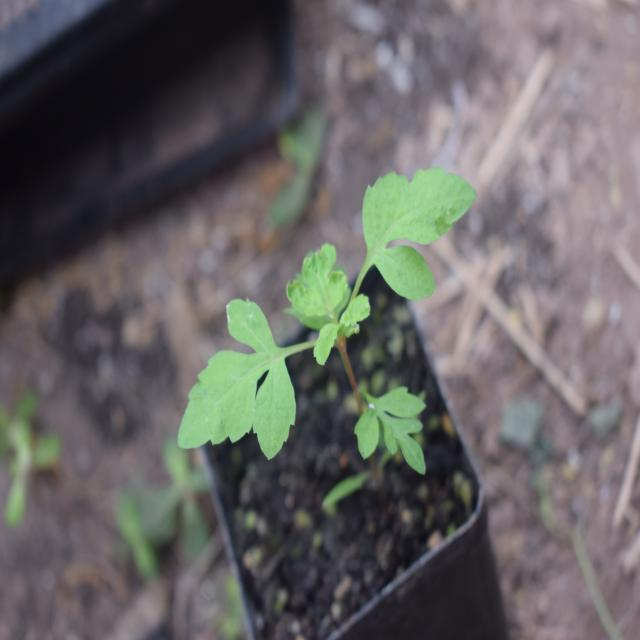Bidens pilosa: (163, 160, 482, 480)
